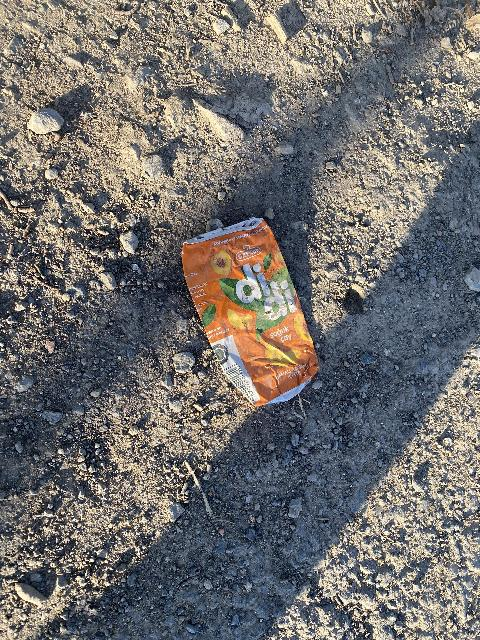Metal: (183, 197, 335, 411)
